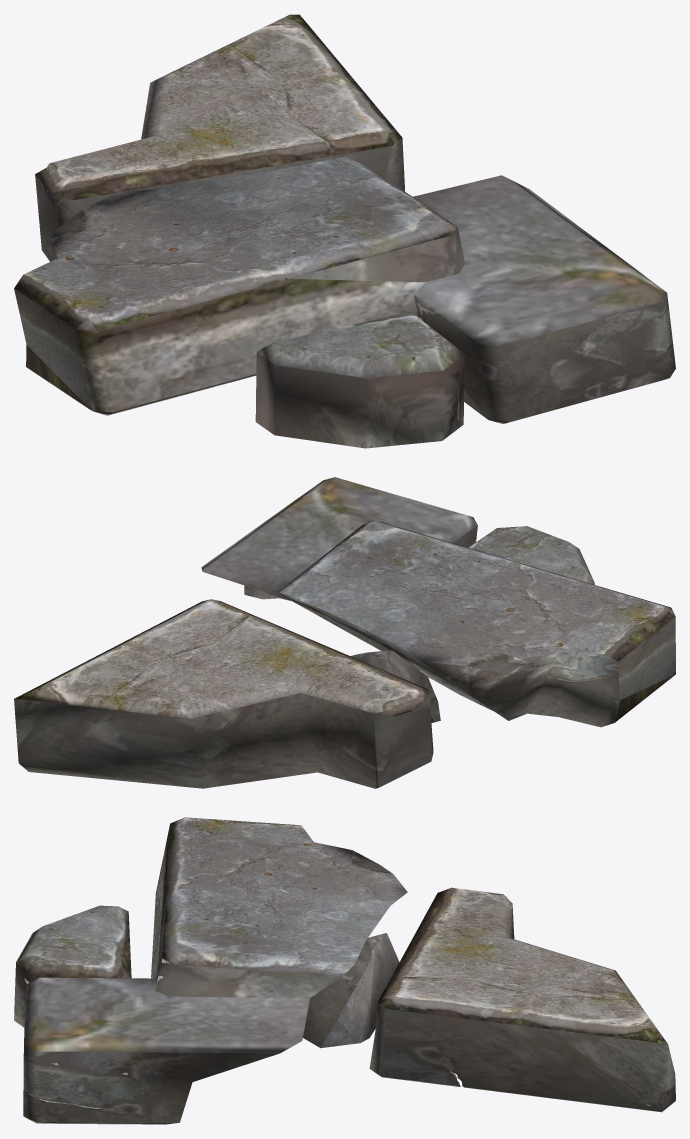
3 views of the same model, one above another, from view 1: azimuth 30°, elevation 25°; view 2: azimuth 150°, elevation 25°; view 3: azimuth 270°, elevation 25° (orthographic). The views are drawn at different scales.
Parts seen in each view (by area): view 1: SM_Greathall_Floor_Plate_Group_01_LOD0; view 2: SM_Greathall_Floor_Plate_Group_01_LOD0; view 3: SM_Greathall_Floor_Plate_Group_01_LOD0.
Boxes of the visible parts, left/top/right/bottom form: SM_Greathall_Floor_Plate_Group_01_LOD0: left=14, top=14, right=675, bottom=448; SM_Greathall_Floor_Plate_Group_01_LOD0: left=14, top=477, right=675, bottom=788; SM_Greathall_Floor_Plate_Group_01_LOD0: left=14, top=817, right=675, bottom=1124.
Size of the model in its own units: 1.63 by 0.4164 by 2.11.
Materials: 2 (2 with a texture image).
